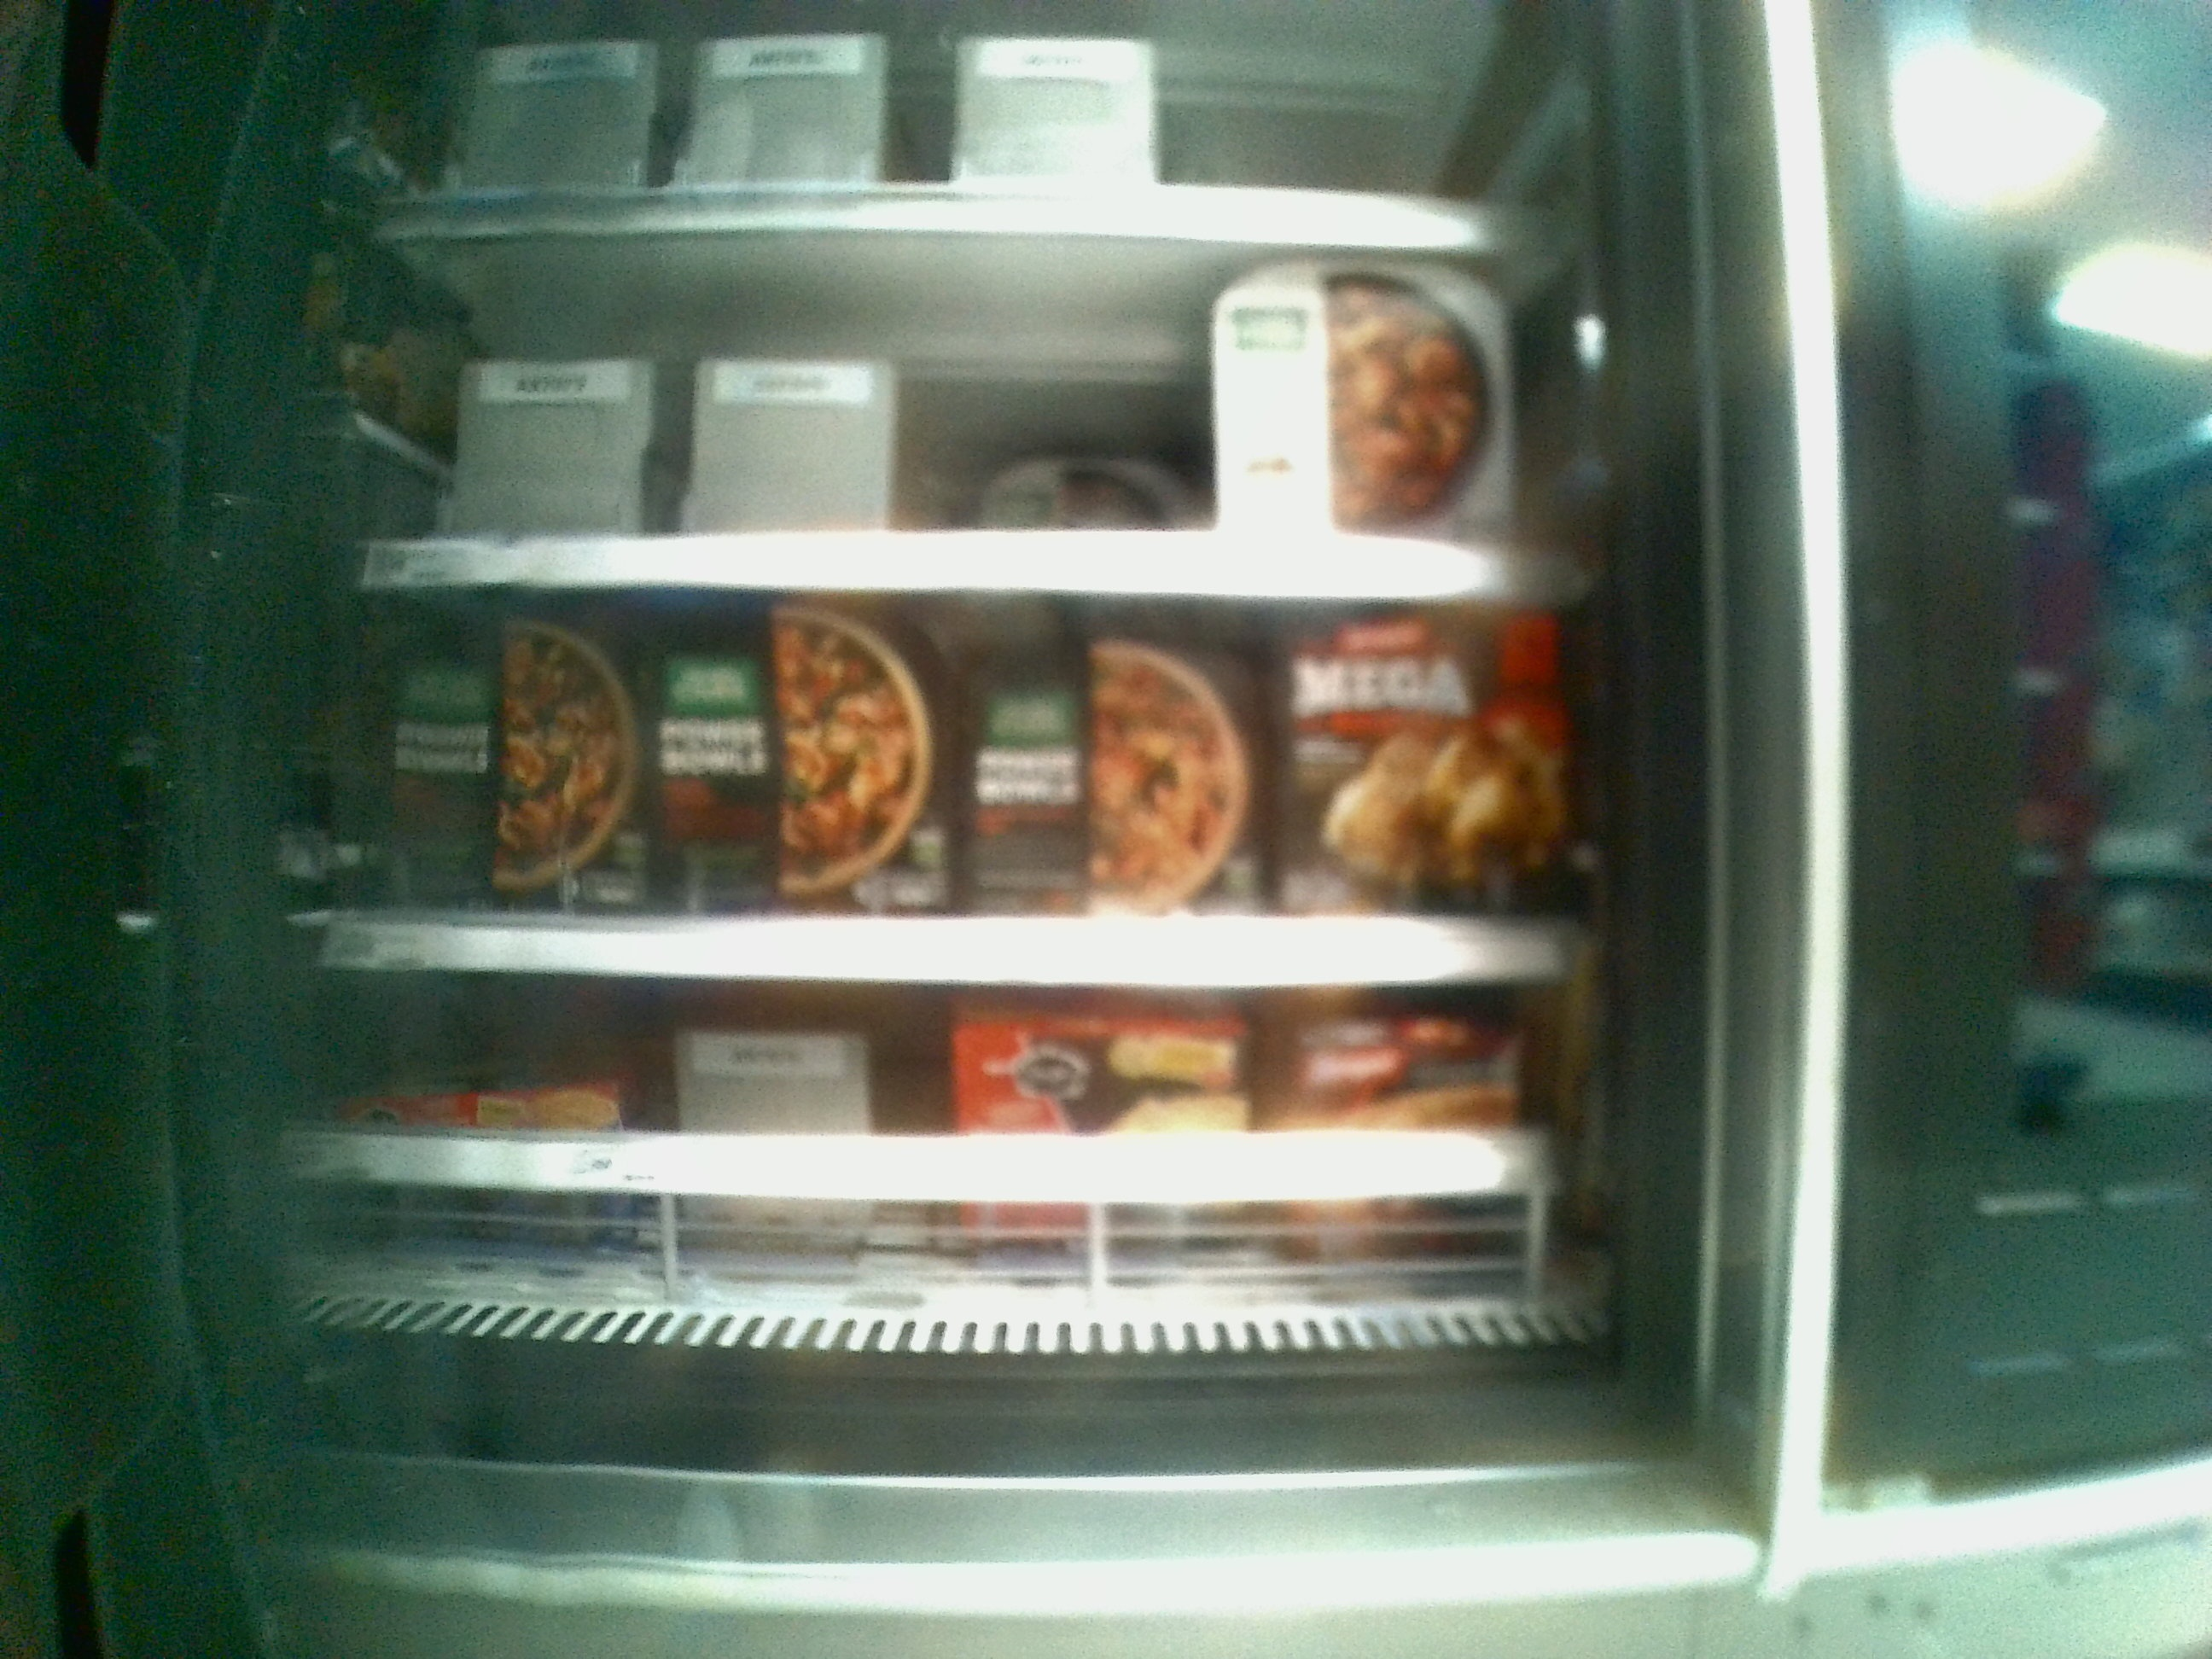shelf: (298, 978, 1630, 1371), (354, 586, 1590, 990), (359, 232, 1548, 587)
